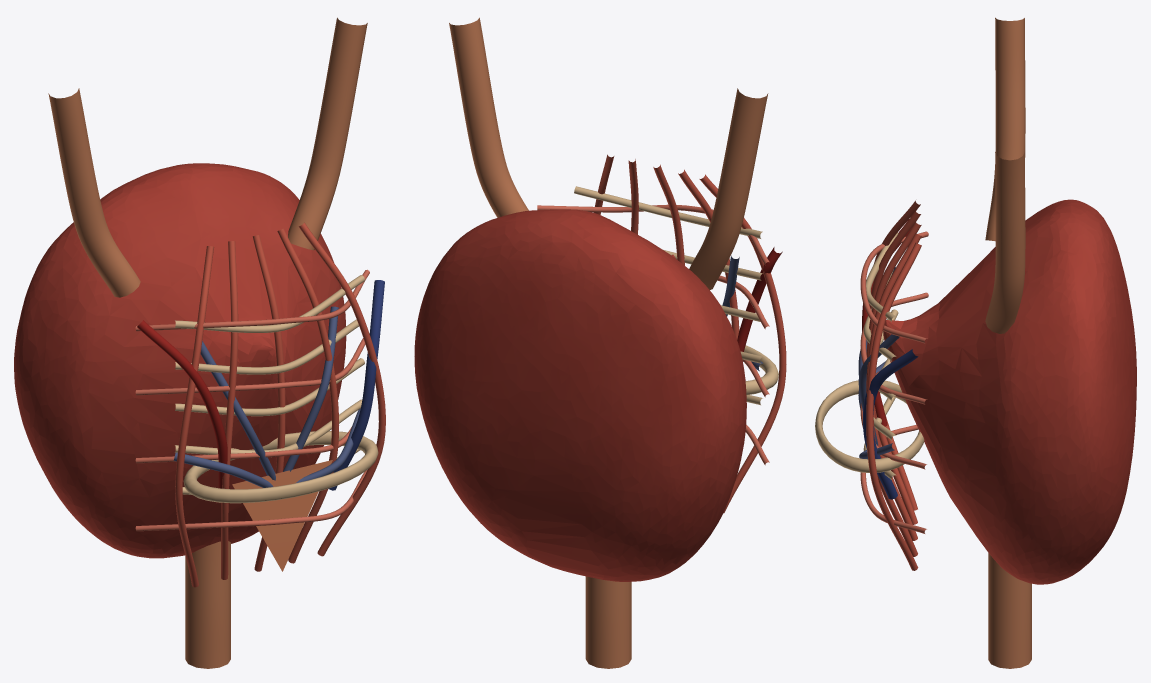
The model's file is bladder.b791828f.glb.
The picture shows the model from 3 angles, left to right: view 1: azimuth 30°, elevation 25°; view 2: azimuth 150°, elevation 25°; view 3: azimuth 270°, elevation 25°; orthographic projection. The views are drawn at different scales.
Parts seen in each view (by area): view 1: Urinary bladder, procedural-bladder-surface-2, procedural-bladder-surface-1, procedural-bladder-surface-3, procedural-bladder-surface-4, Trigone surface, Detrusor longitudinal fibre 5, Detrusor longitudinal fibre 1, Detrusor longitudinal fibre 2, Detrusor longitudinal fibre 4, Vesical venous plexus, Detrusor longitudinal fibre 3 (+13 smaller); view 2: Urinary bladder, procedural-bladder-surface-2, procedural-bladder-surface-1, procedural-bladder-surface-3, Detrusor longitudinal fibre 1, procedural-bladder-surface-5, Detrusor transverse fibre 4, Superior vesical artery, Detrusor longitudinal fibre 3, Detrusor longitudinal fibre 2, procedural-bladder-surface-4, Detrusor longitudinal fibre 4; view 3: Urinary bladder, procedural-bladder-surface-2, procedural-bladder-surface-1, procedural-bladder-surface-3, Detrusor longitudinal fibre 5, procedural-bladder-surface-4, Detrusor longitudinal fibre 4, Detrusor longitudinal fibre 2, Detrusor longitudinal fibre 3, Vesical venous plexus, Detrusor transverse fibre 4, Detrusor longitudinal fibre 1 (+4 smaller).
Boxes of the visible parts, box(x1,y1,x2,y2) form: Urinary bladder: box(14, 163, 346, 558); procedural-bladder-surface-2: box(288, 17, 367, 250); procedural-bladder-surface-1: box(48, 88, 140, 297); procedural-bladder-surface-3: box(185, 541, 230, 668); procedural-bladder-surface-4: box(183, 431, 378, 503); Trigone surface: box(232, 460, 332, 571); Detrusor longitudinal fibre 5: box(298, 222, 385, 556); Detrusor longitudinal fibre 1: box(175, 246, 214, 587); Detrusor longitudinal fibre 2: box(221, 241, 238, 579); Detrusor longitudinal fibre 4: box(277, 228, 339, 563); Vesical venous plexus: box(328, 280, 384, 490); Detrusor longitudinal fibre 3: box(252, 234, 285, 571); Urinary bladder: box(414, 209, 746, 581); procedural-bladder-surface-2: box(449, 17, 528, 217); procedural-bladder-surface-1: box(689, 88, 768, 289); procedural-bladder-surface-3: box(585, 576, 631, 668); Detrusor longitudinal fibre 1: box(699, 174, 786, 513); procedural-bladder-surface-5: box(574, 186, 762, 238); Detrusor transverse fibre 4: box(537, 204, 769, 265); Superior vesical artery: box(737, 247, 782, 351); Detrusor longitudinal fibre 3: box(653, 164, 684, 265); Detrusor longitudinal fibre 2: box(678, 169, 739, 339); procedural-bladder-surface-4: box(744, 345, 778, 395); Detrusor longitudinal fibre 4: box(628, 159, 638, 234); Urinary bladder: box(883, 199, 1136, 584); procedural-bladder-surface-2: box(985, 152, 1025, 333); procedural-bladder-surface-1: box(985, 17, 1025, 241); procedural-bladder-surface-3: box(988, 553, 1031, 668); Detrusor longitudinal fibre 5: box(866, 242, 921, 570); procedural-bladder-surface-4: box(815, 380, 924, 472); Detrusor longitudinal fibre 4: box(866, 233, 921, 556); Detrusor longitudinal fibre 2: box(869, 210, 920, 524); Detrusor longitudinal fibre 3: box(866, 222, 921, 540); Vesical venous plexus: box(863, 349, 918, 499); Detrusor transverse fibre 4: box(860, 231, 928, 343); Detrusor longitudinal fibre 1: box(874, 200, 920, 510).
Bounding box in the file's own units: 1.75 × 3.21 × 1.62.
